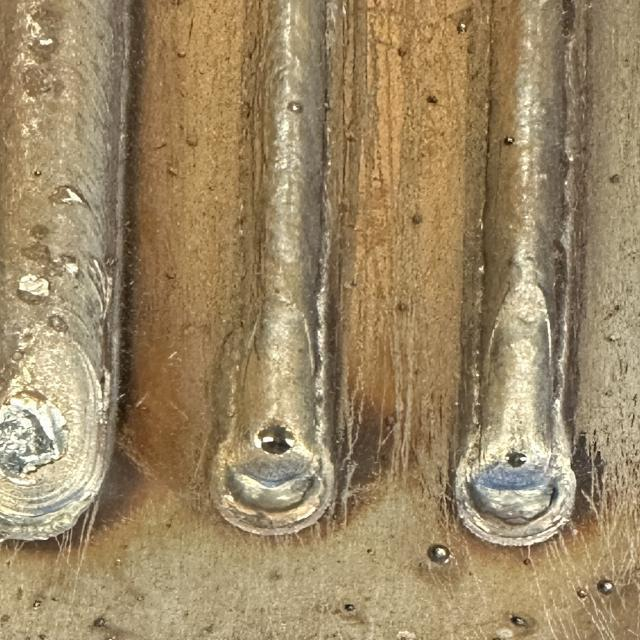Spatters: (427, 544, 450, 564), (597, 579, 615, 594), (510, 615, 530, 627), (287, 101, 303, 112), (395, 301, 410, 312), (185, 134, 198, 146), (412, 212, 423, 225), (93, 618, 107, 628), (577, 588, 588, 599), (503, 136, 515, 145), (457, 22, 467, 32), (427, 95, 438, 104), (343, 604, 355, 611), (33, 600, 42, 609), (322, 100, 330, 110), (522, 558, 533, 565), (177, 51, 187, 58), (33, 170, 42, 176)
